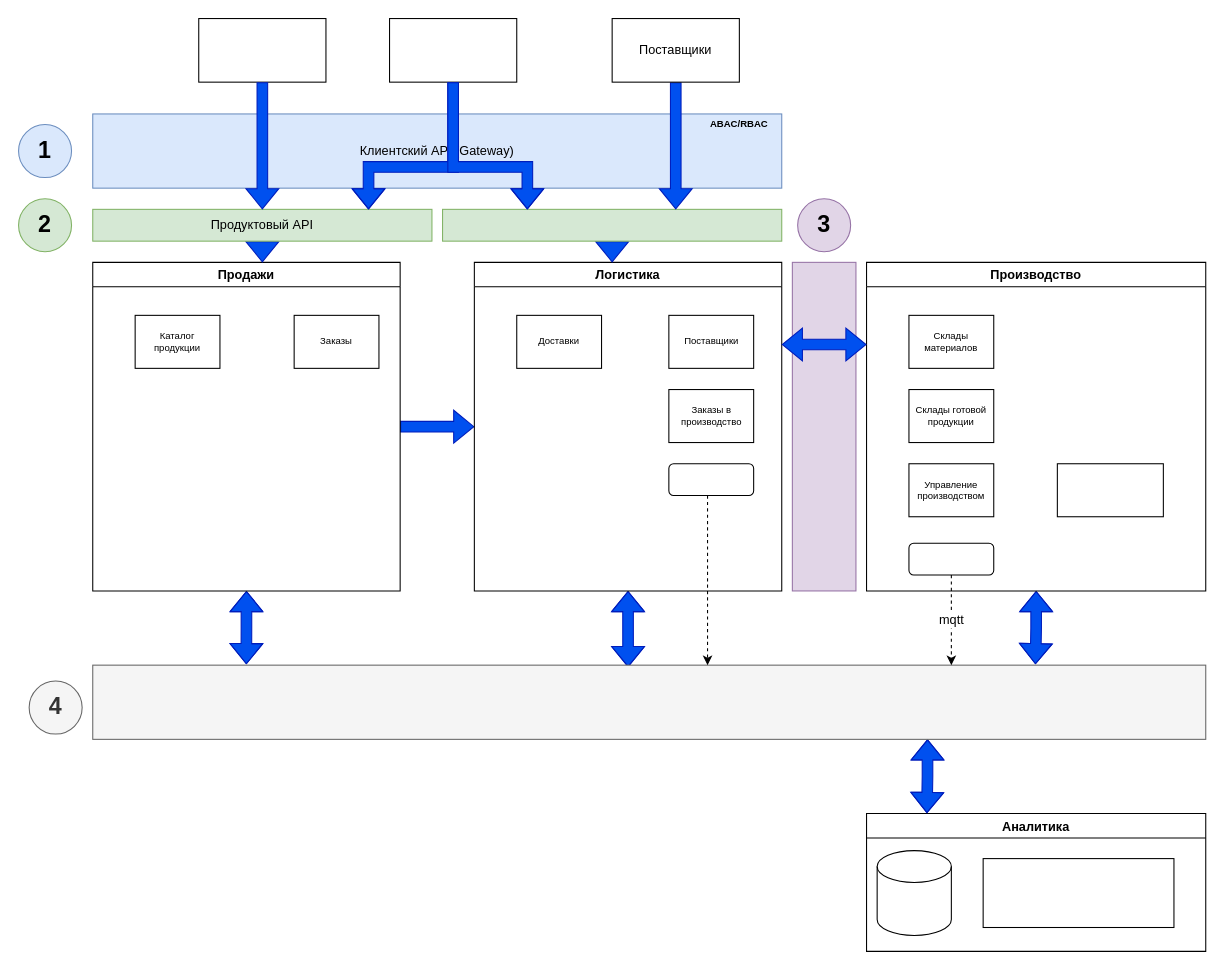
Some shapes in this 1224 by 970 pixel diagram are drawn without their labels. The shapes that lost their labels are listed below. From the top down, each one's centre as x and y in pixels, then its label:
At (262,49): "Клиенты".
At (452,49): "Дистрибьютеры".
At (611,224): "Логистический API".
At (823,426): "Производственный API".
At (711,479): "IoT (сканеры)".
At (1109,490): "Контроль качества".
At (951,558): "IoT (станки)".
At (649,701): "ESB".
At (1078,893): "BI, REPORTS, OLAP".
